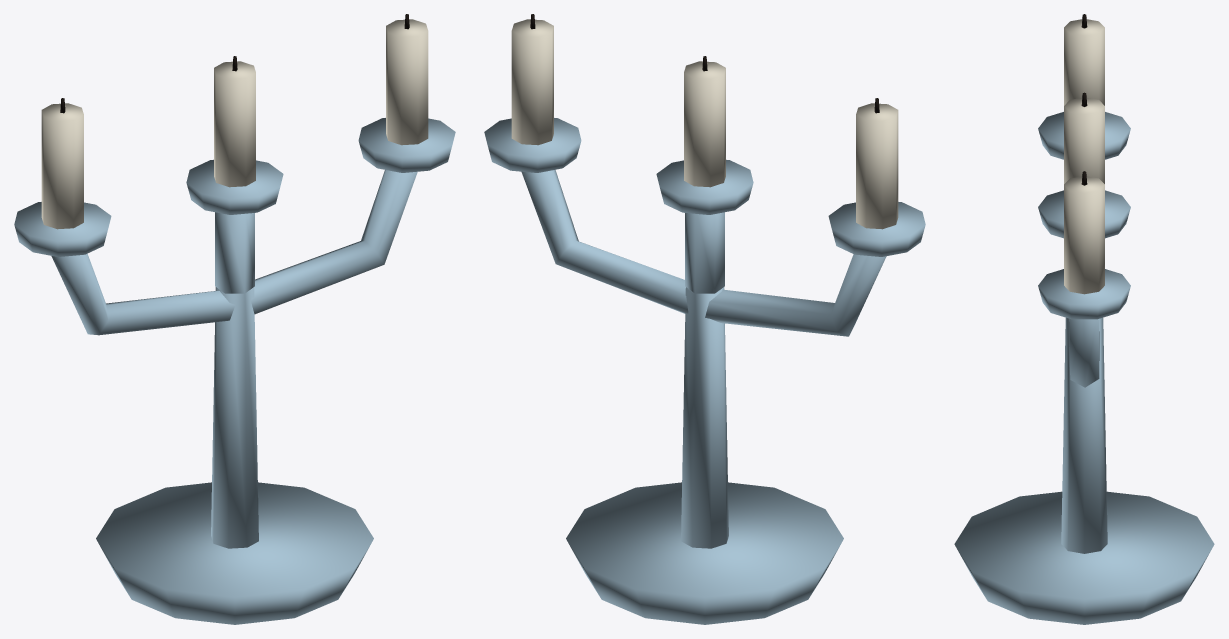
The model's file is glass_candelabra_v0.glb.
3 views of the same model, side by side, from view 1: azimuth 30°, elevation 25°; view 2: azimuth 150°, elevation 25°; view 3: azimuth 270°, elevation 25° (orthographic). The views are drawn at different scales.
Visible parts, largest first — view 1: glass_candelabra_v0; view 2: glass_candelabra_v0; view 3: glass_candelabra_v0.
Part boxes in pixels (<box>): glass_candelabra_v0: <box>14,14,455,624</box>; glass_candelabra_v0: <box>484,14,925,624</box>; glass_candelabra_v0: <box>954,14,1214,624</box>.
Size of the model in its own units: 0.4951 by 0.575 by 0.28.
